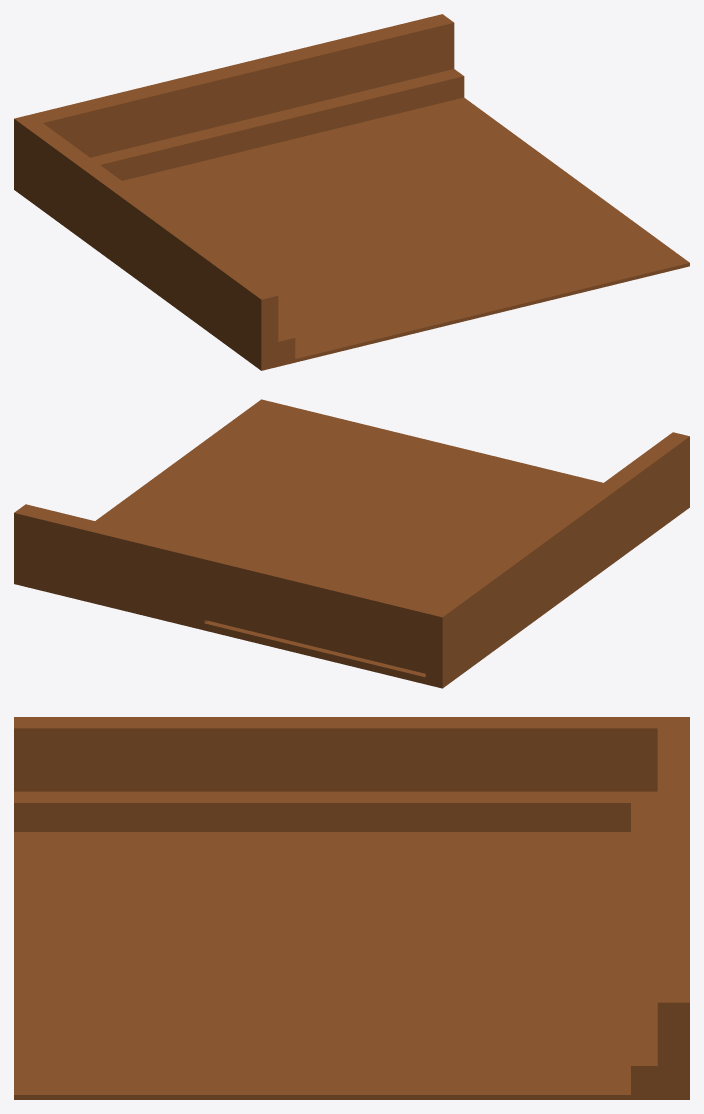
File: plafond_coin.obj
3 views of the same model, one above another, from view 1: azimuth 30°, elevation 25°; view 2: azimuth 150°, elevation 25°; view 3: azimuth 270°, elevation 25° (orthographic). The views are drawn at different scales.
Bounding box in the file's own units: 126 × 20 × 126.
1 material, 1 textured.
